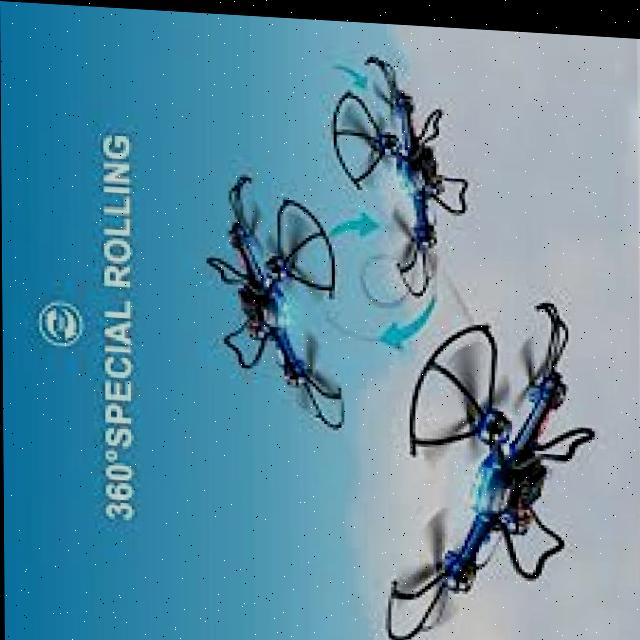drone: (357, 278, 620, 640), (318, 38, 484, 303), (209, 168, 346, 422)
